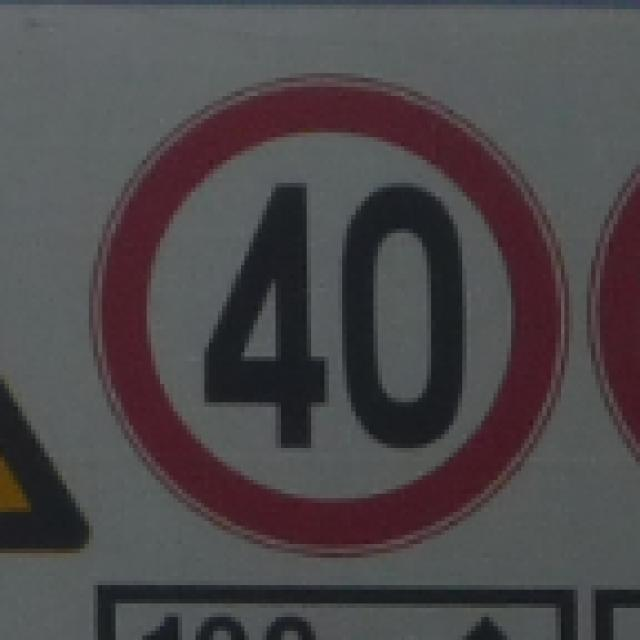Speed: (88, 68, 572, 555)
